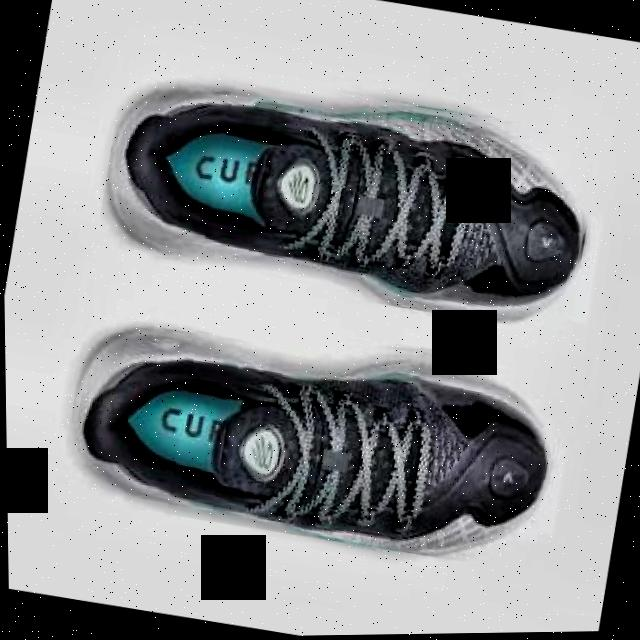shoe: (90, 47, 606, 342), (54, 287, 567, 580)
